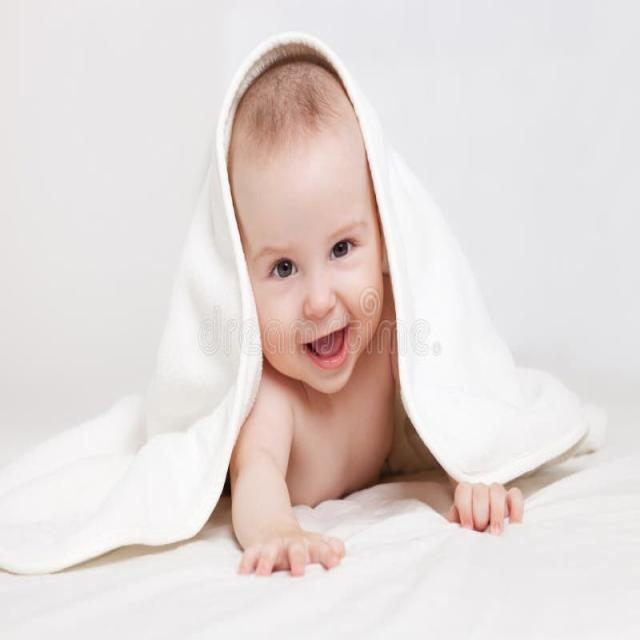blanket: (0, 34, 589, 573)
